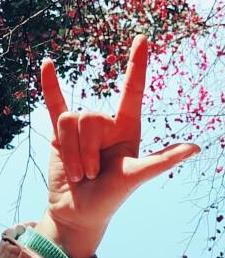back: (36, 32, 203, 226)
